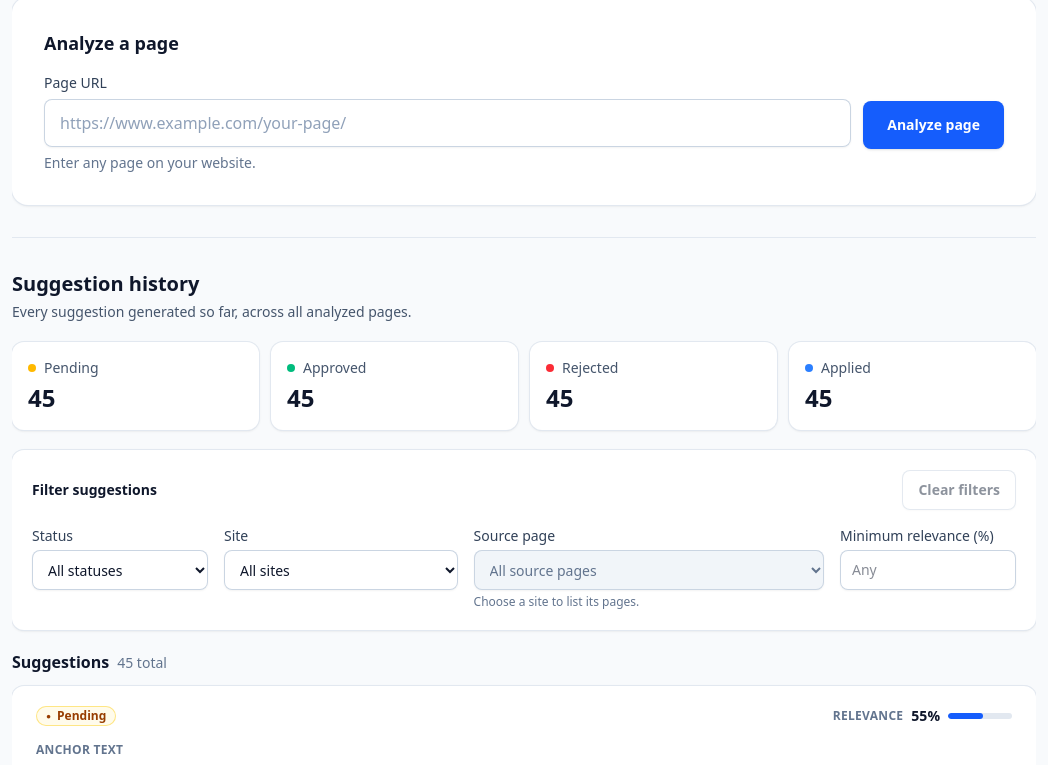
InterlinkPage › status filter › writes the status to the URL and queries the backend with it
Select "Approved" in the dropdown labelled "Status". click: (120, 570)
box: [32, 550, 208, 590]
(page scrolled)
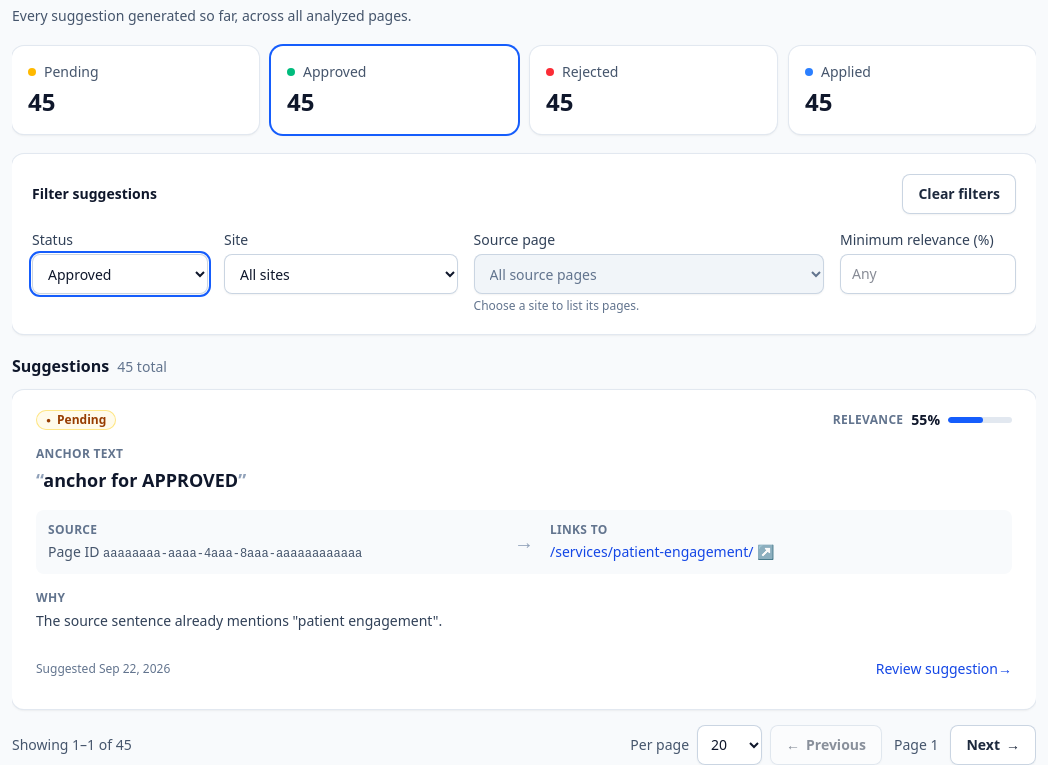
Result: the heading "“anchor for APPROVED”" is shown at [36, 468, 246, 492]
